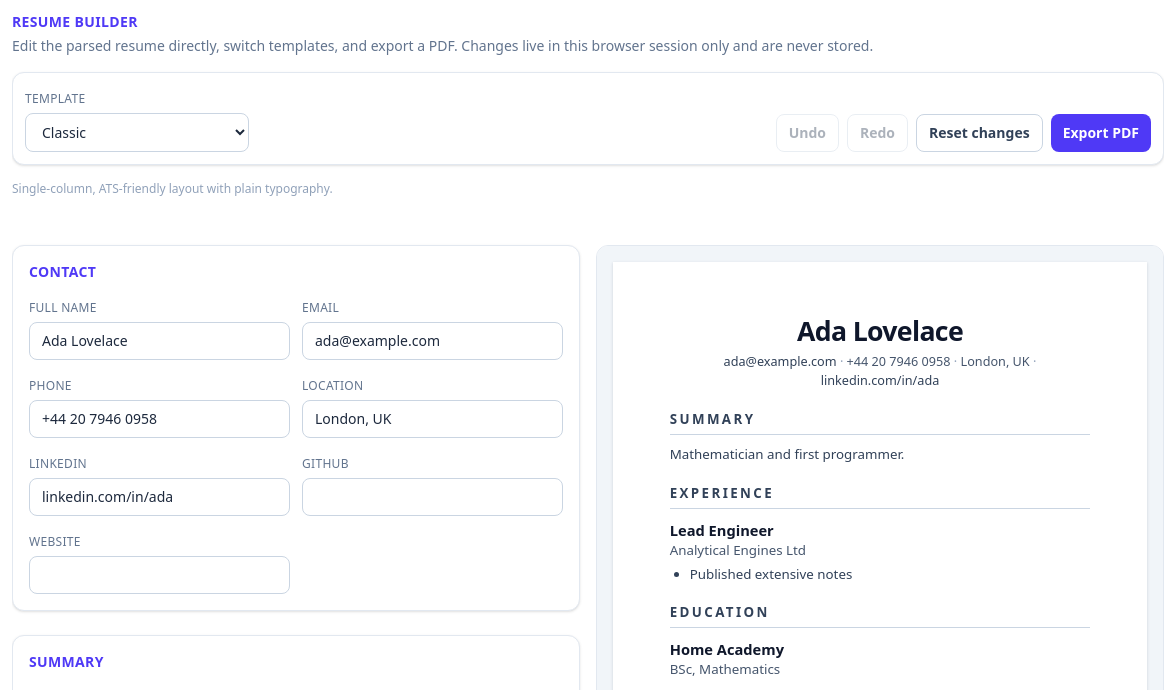
Test case: ResumeBuilder › resets changes back to the original resume
Replace the text in the field labelled "Full name" with "Changed" at (160, 341), box 29,322 -> 290,360
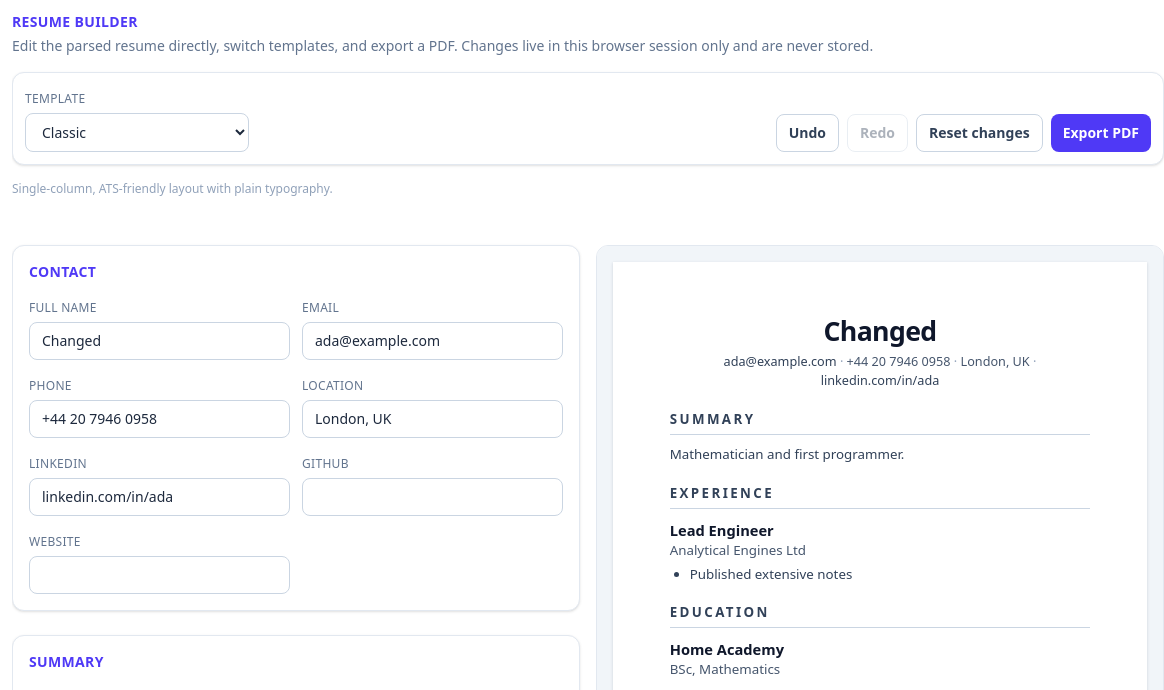
Expected: the heading "Changed" is shown, 824,313 -> 936,349
Click the button "Reset changes".
click(979, 133)  # box 916,114 -> 1043,152
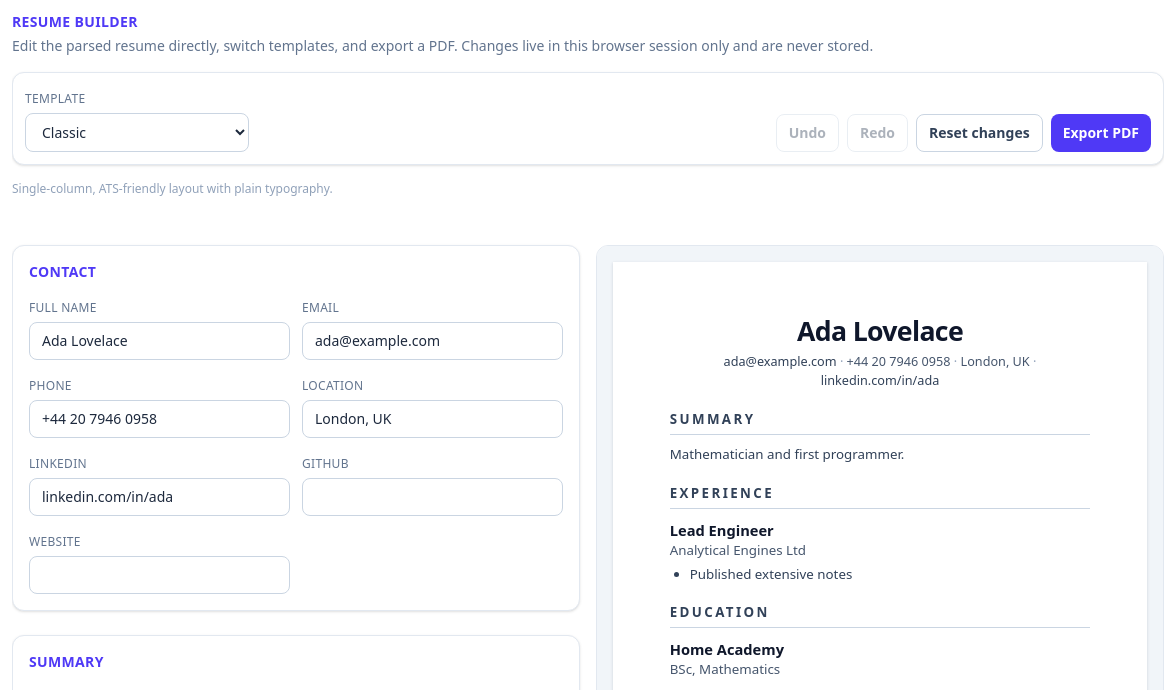
Expected: the heading "Ada Lovelace" is shown, 797,313 -> 963,349
Expected: the button "Undo" is disabled, 776,114 -> 839,152
